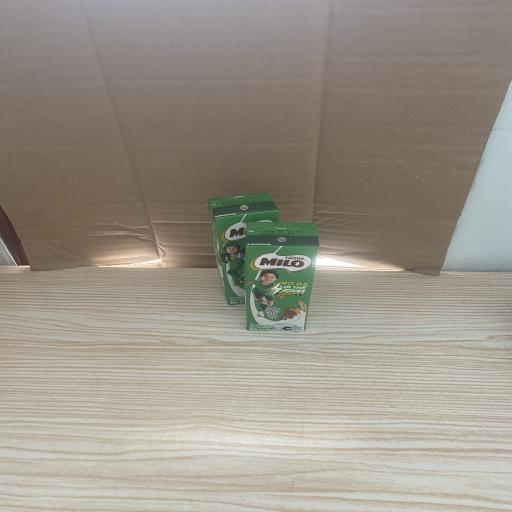milo: (245, 222, 319, 331), (207, 192, 279, 304)
